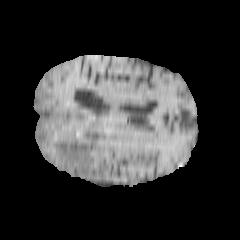glioma: (53, 116, 120, 176)
